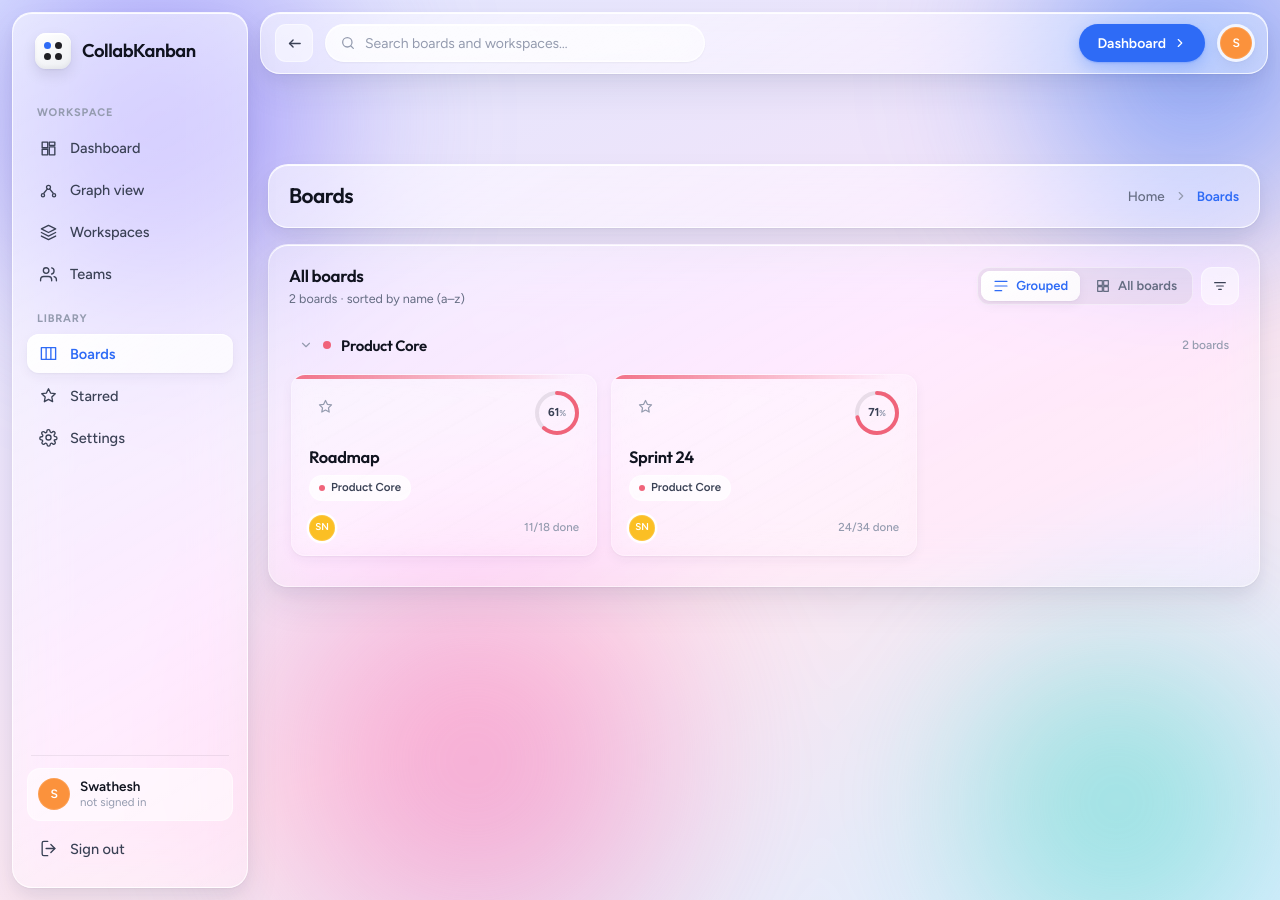
Test case: BoardsPage › says when a search matches nothing
This screenshot has width=1280, height=900.
Expected: the heading "Sprint 24" is shown, [629,446,694,467]
Type "zzz" into the field labelled "Search boards" at point(528, 43), box [365,34,690,52]
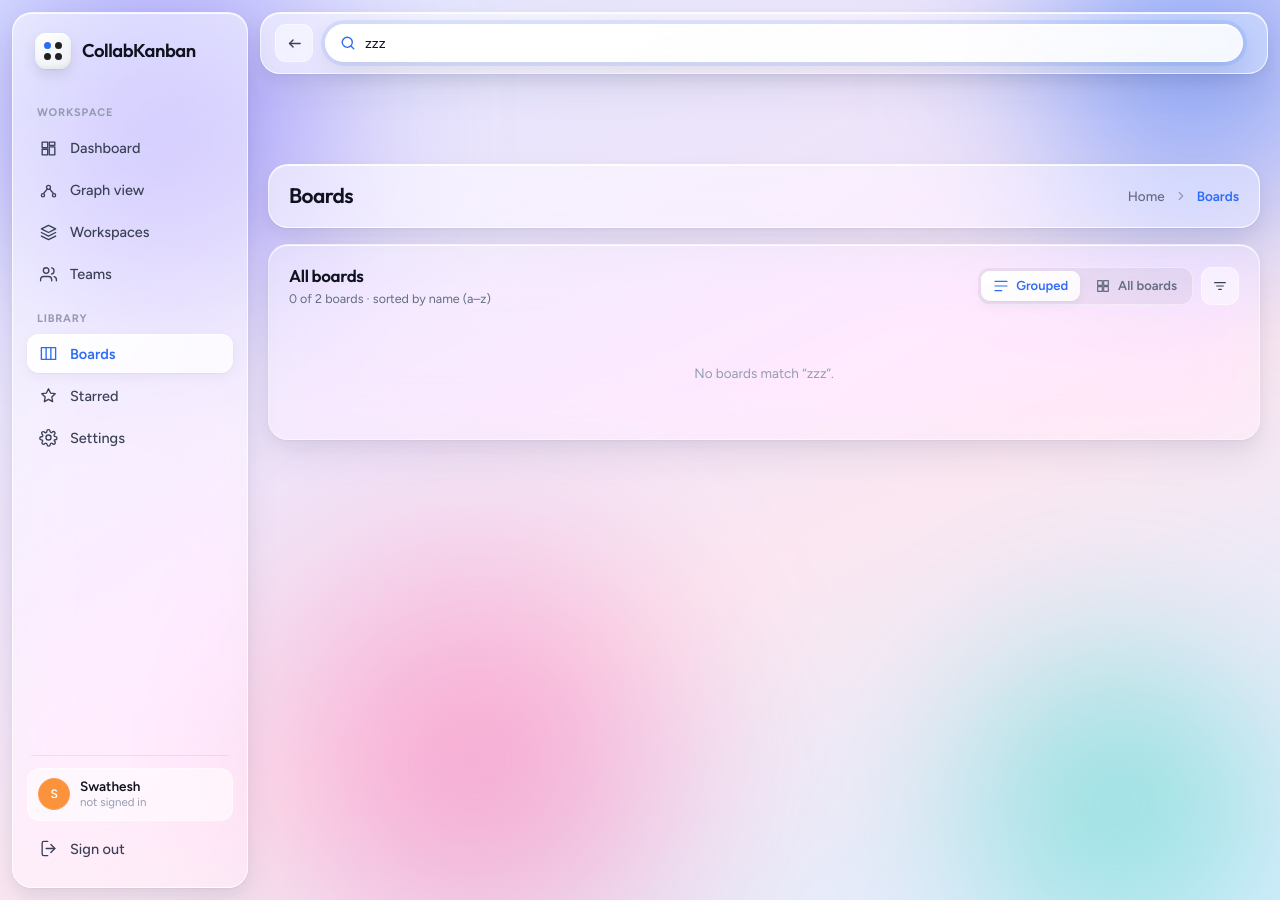
Expected: the text "No boards match “zzz”." is shown, [694,365,834,381]
